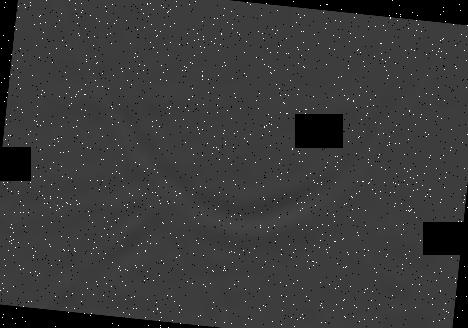Hyperbola: (35, 0, 454, 298)
